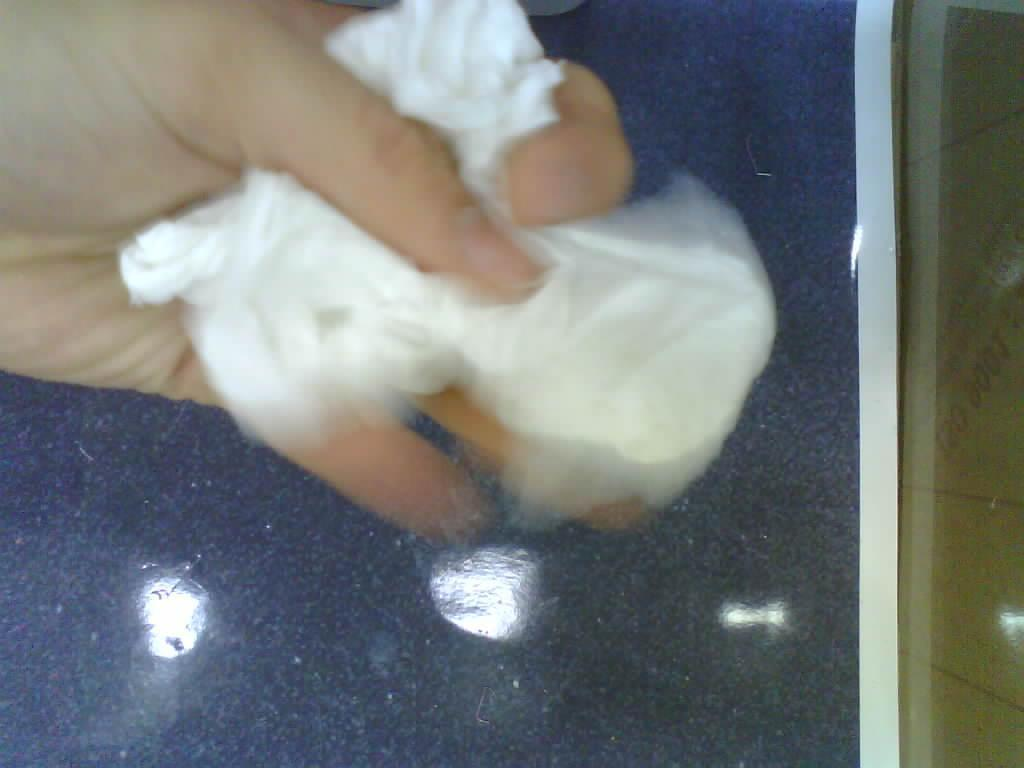paper: (113, 0, 777, 531)
